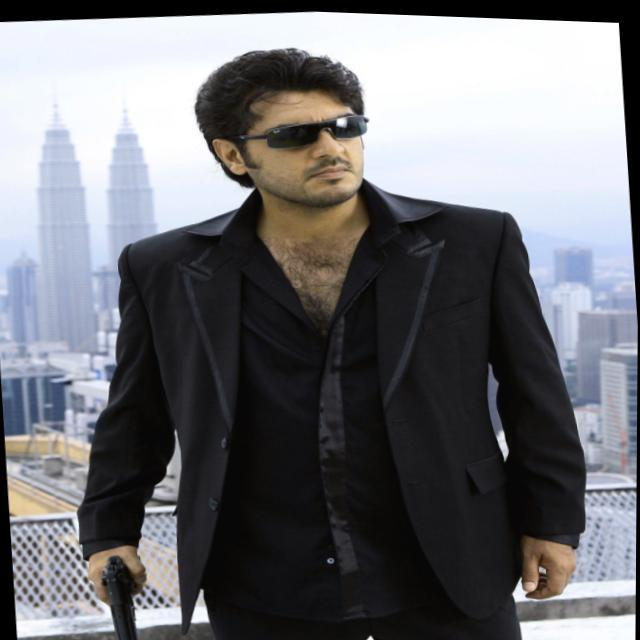weapon: (93, 546, 159, 640)
